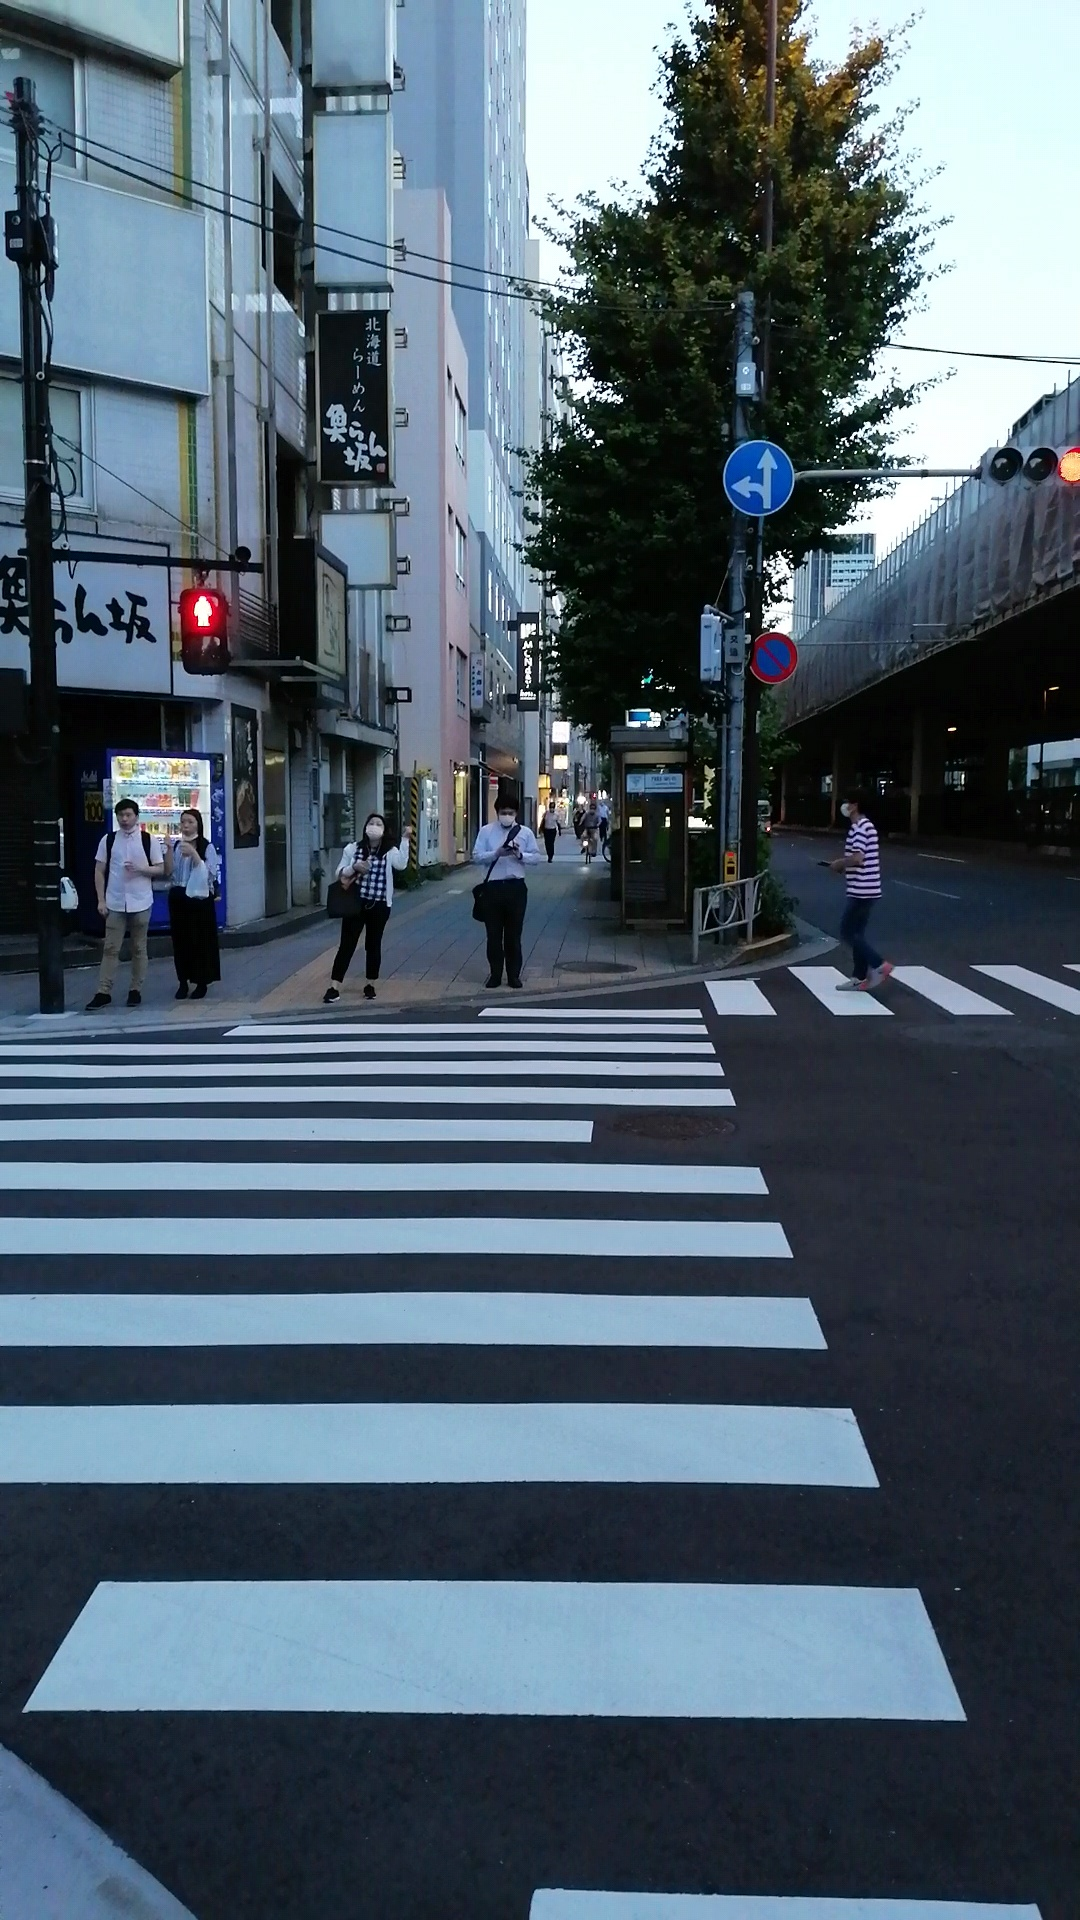red: (179, 585, 229, 679)
